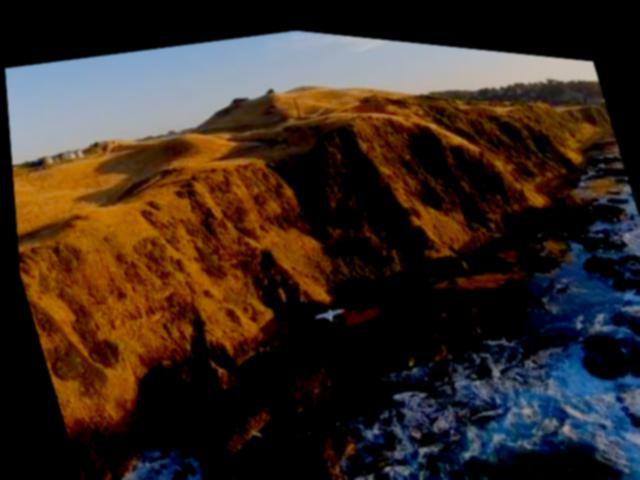uav: (304, 292, 346, 322)
